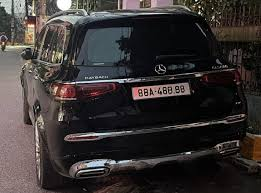Car number plates: (132, 83, 191, 99)
